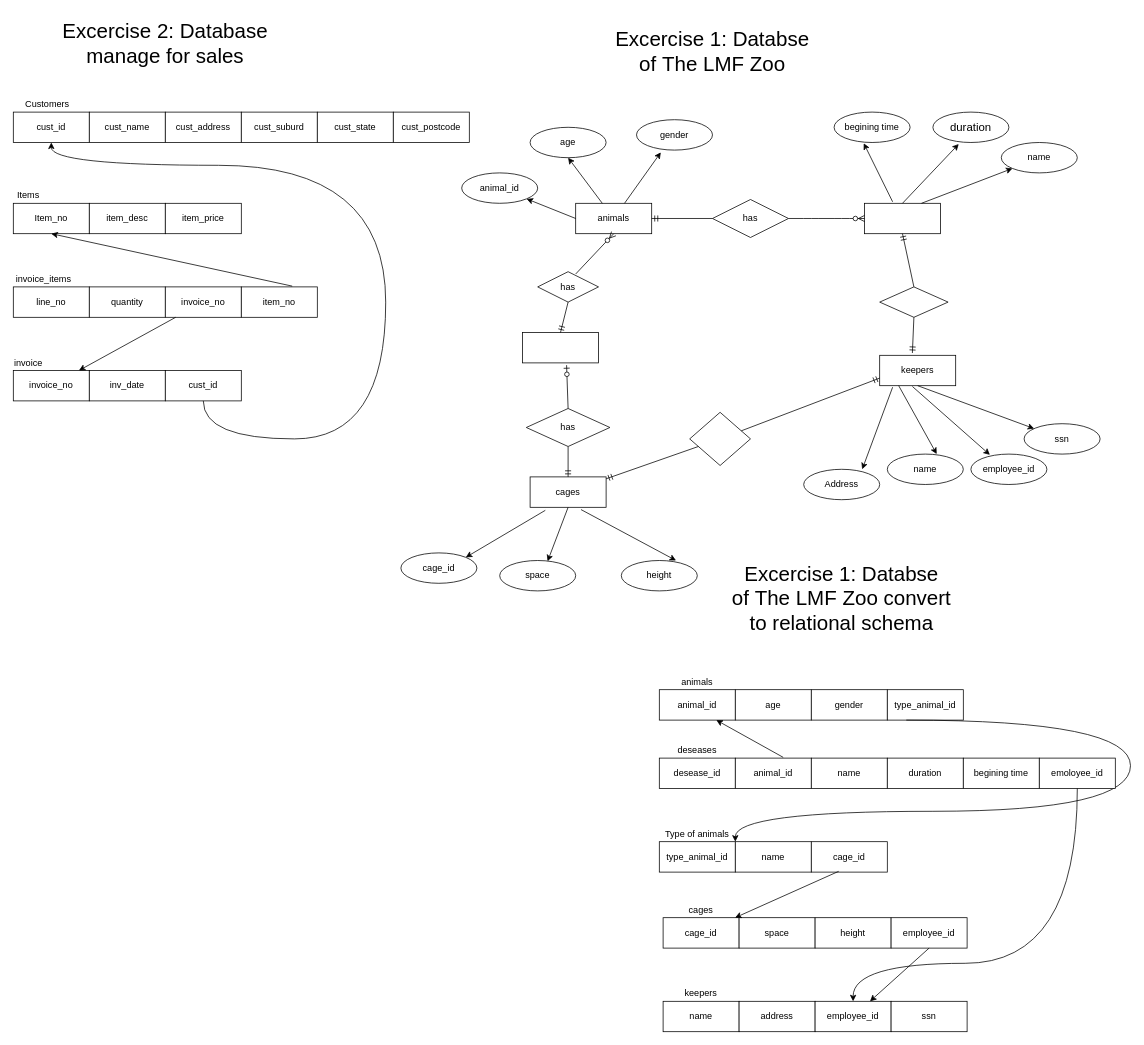
Image size: 1144x1045. Some labels were removed from this diagram. The shapes that lost their labels are listed below. From the top down, each one's box as (x1, y1, x2, y2) in pixels, then its label:
(864, 203, 940, 234): diseases
(879, 286, 948, 317): handle
(522, 332, 598, 363): type animal
(689, 412, 750, 466): keep
